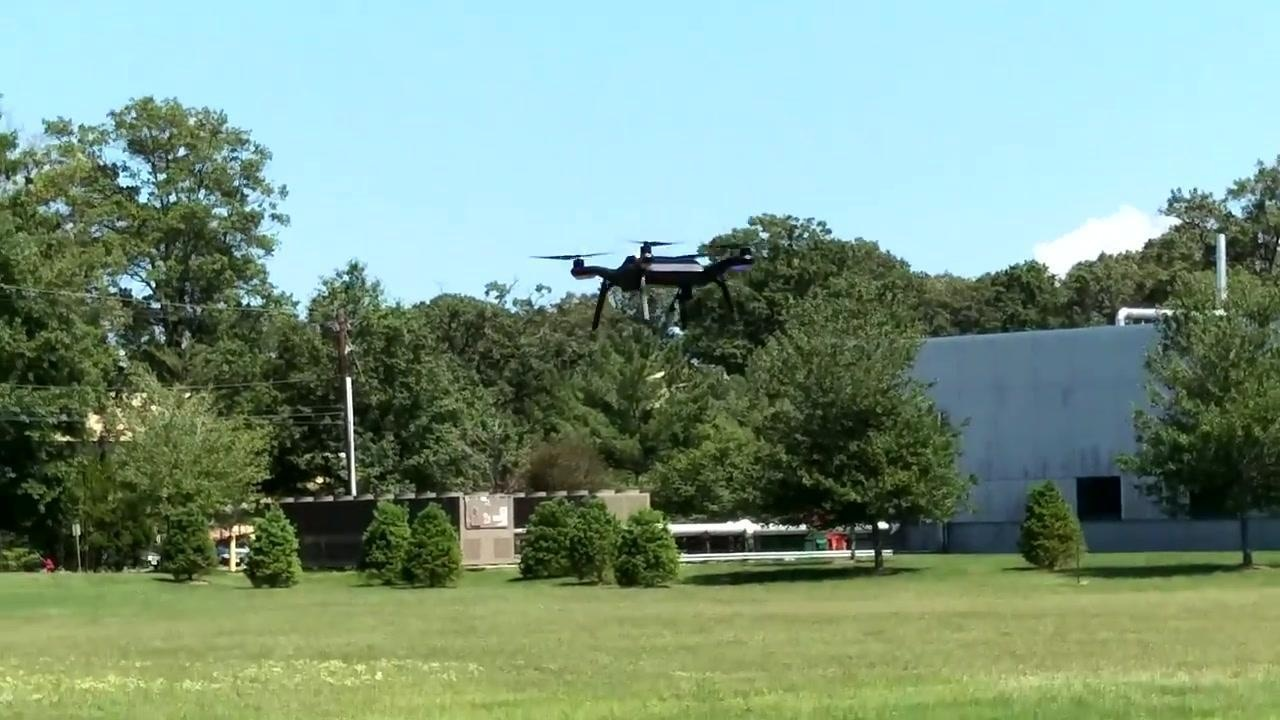UAV: (531, 240, 755, 332)
